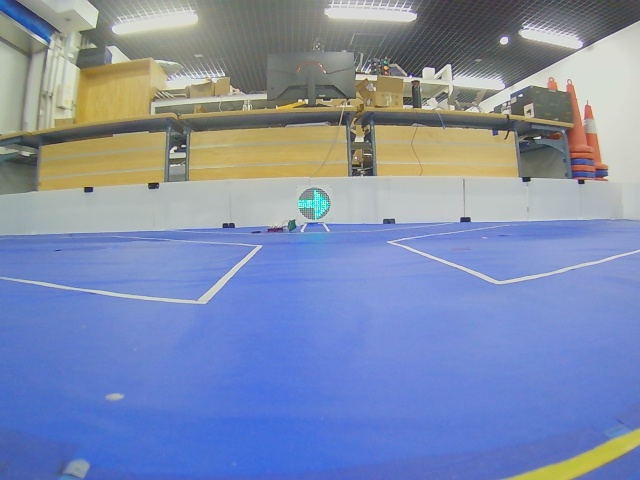right_green: (297, 187, 331, 221)
